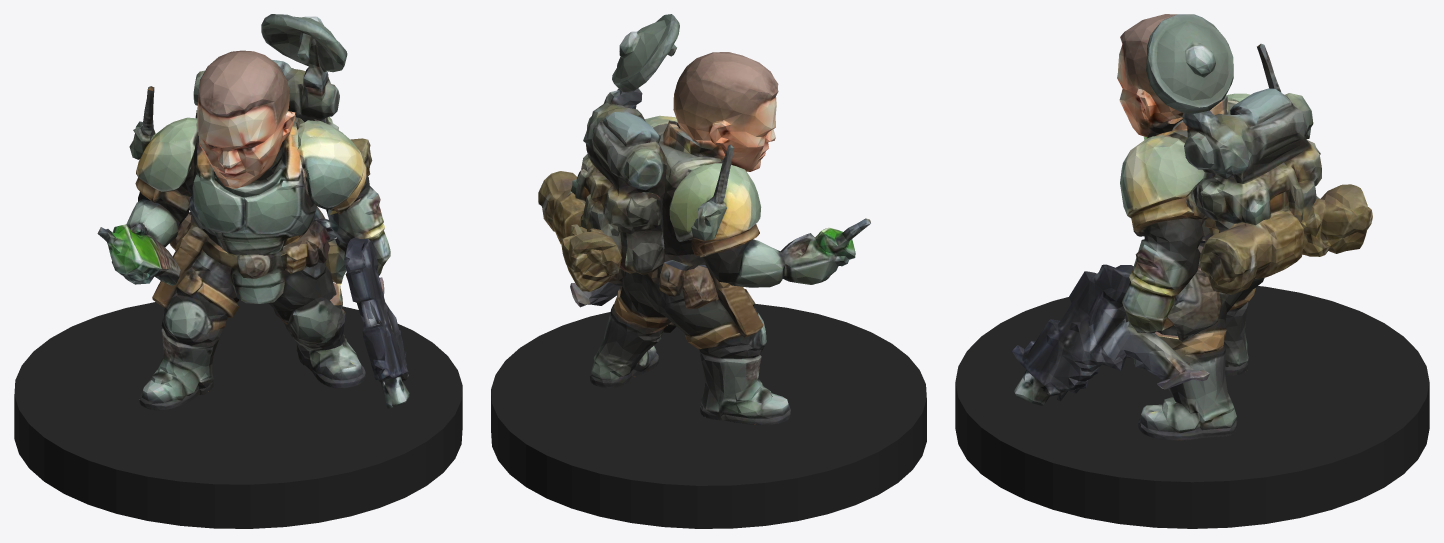
The model's file is ss-tracker.glb.
3 renders of one model, left to right at view 1: azimuth 30°, elevation 25°; view 2: azimuth 150°, elevation 25°; view 3: azimuth 270°, elevation 25°, orthographic. The views are drawn at different scales.
Parts seen in each view (by area): view 1: base, figure; view 2: base, figure; view 3: base, figure.
Part boxes in pixels (x1,y1,x2,y2): base: [14, 300, 462, 528]; figure: [97, 14, 409, 410]; base: [491, 303, 926, 528]; figure: [538, 14, 870, 425]; base: [955, 286, 1429, 528]; figure: [1012, 14, 1372, 440].
Size of the model in its own units: 1.1 by 1.12 by 1.1.
Materials: 2 (1 with a texture image).
